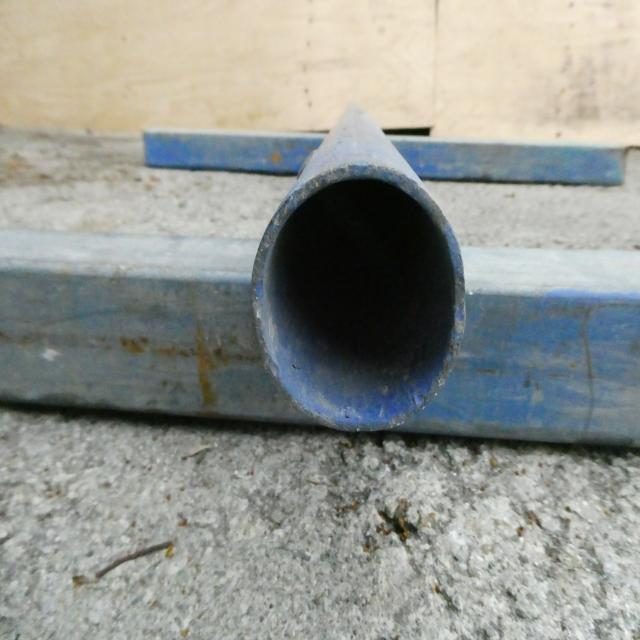pipe: (252, 171, 466, 418)
